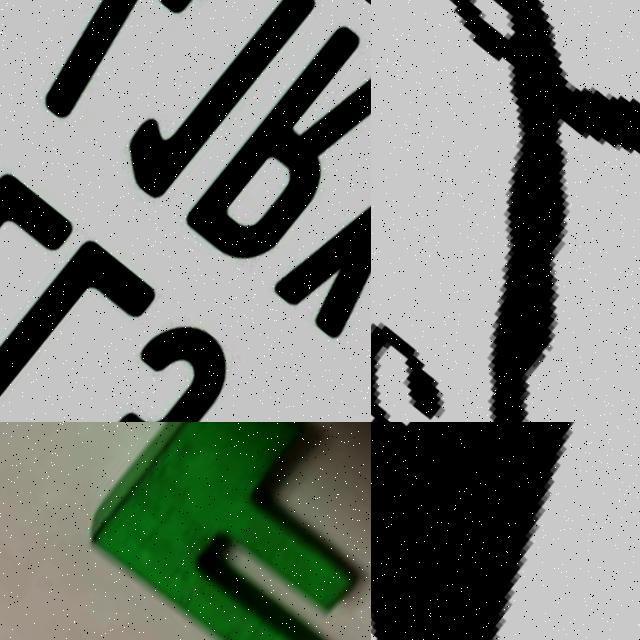1: (371, 422, 640, 640), (108, 0, 323, 204)
3: (22, 289, 259, 422)
4: (12, 0, 258, 152)
F: (67, 422, 371, 640)
L: (0, 210, 173, 422), (0, 150, 87, 422)
R: (182, 0, 371, 279)
Y: (271, 68, 371, 345)
